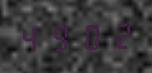four: (18, 22, 46, 54)
nine: (47, 20, 75, 53)
two: (105, 18, 133, 50)
zero: (76, 19, 104, 51)
